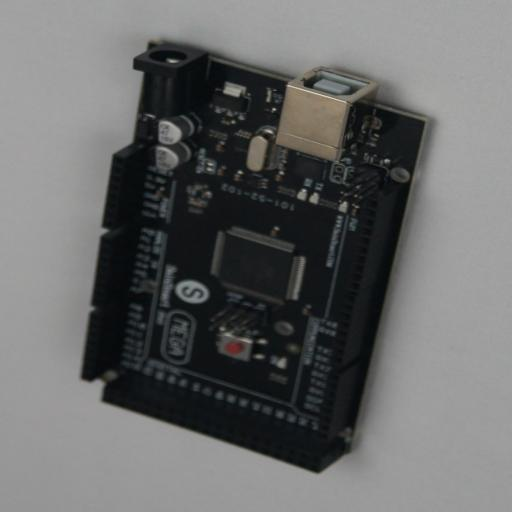Arduino Mega 2560 -Black-: (80, 40, 431, 474)
